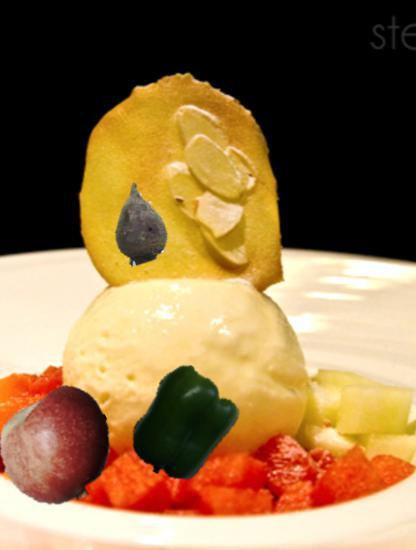Beetroot: (97, 183, 180, 266)
Nectarine: (1, 392, 117, 508)
Pepper: (129, 370, 241, 482)
